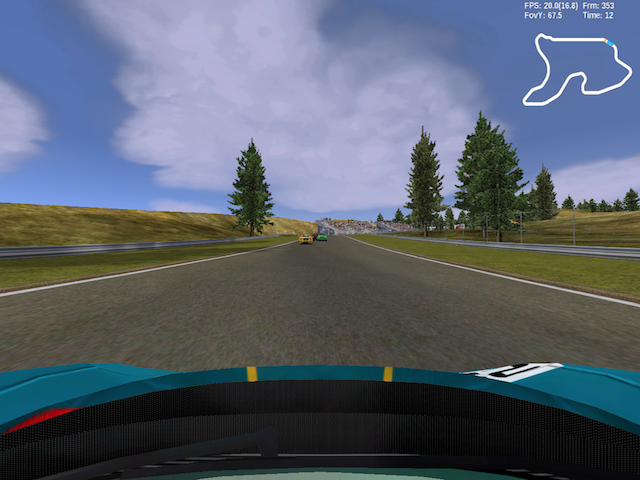Boxer96: (315, 234, 328, 241)
Cavallo360: (298, 236, 314, 246)
